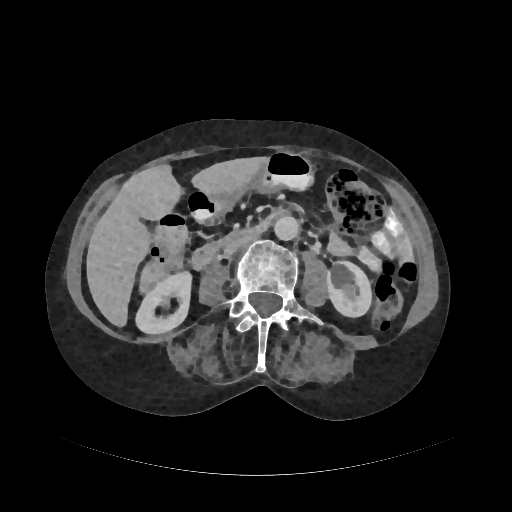Lesion: (327, 263, 362, 290)
